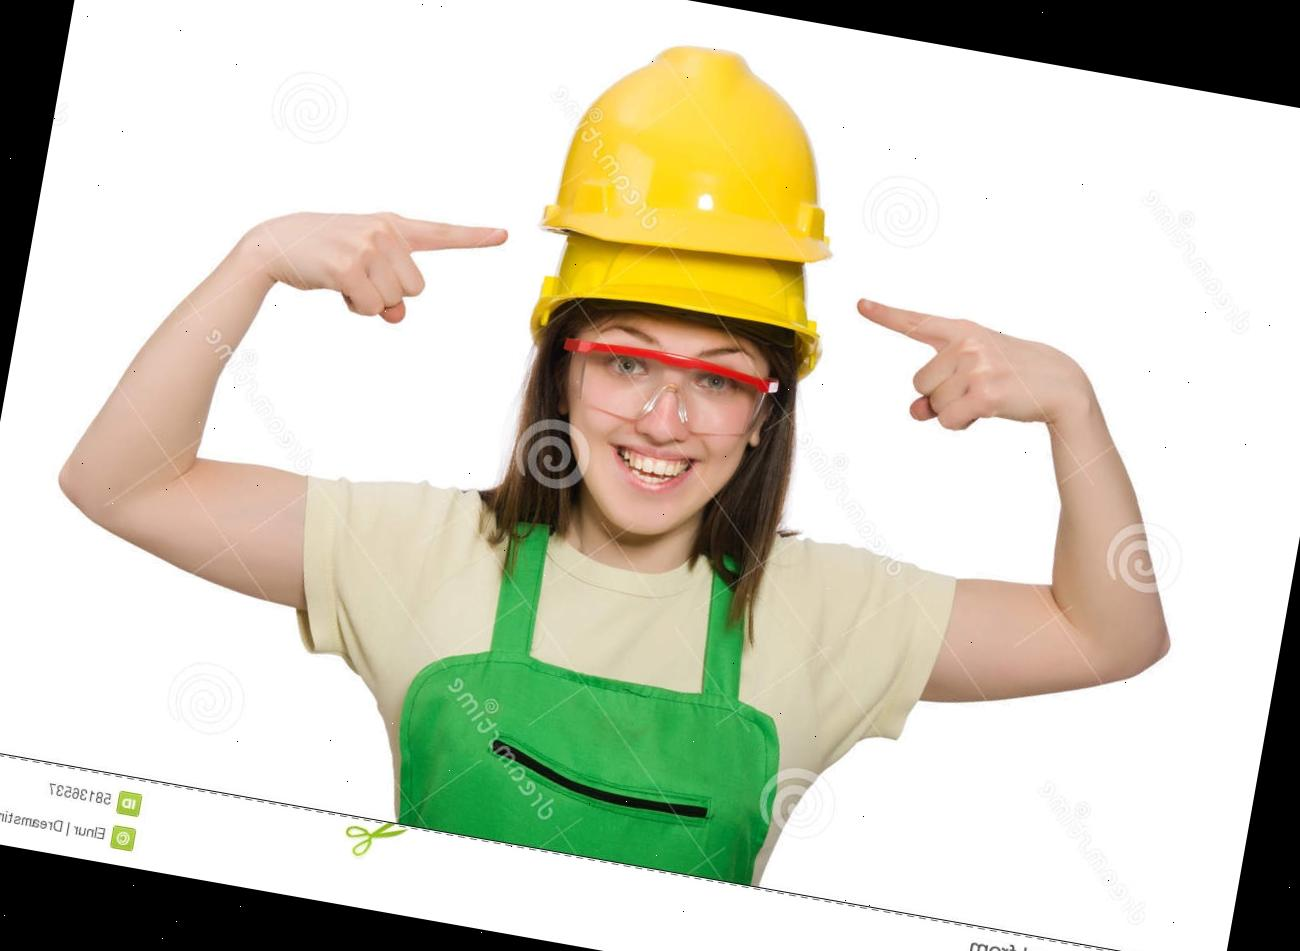helmet: (526, 19, 867, 284)
no_wear: (374, 489, 836, 886)
